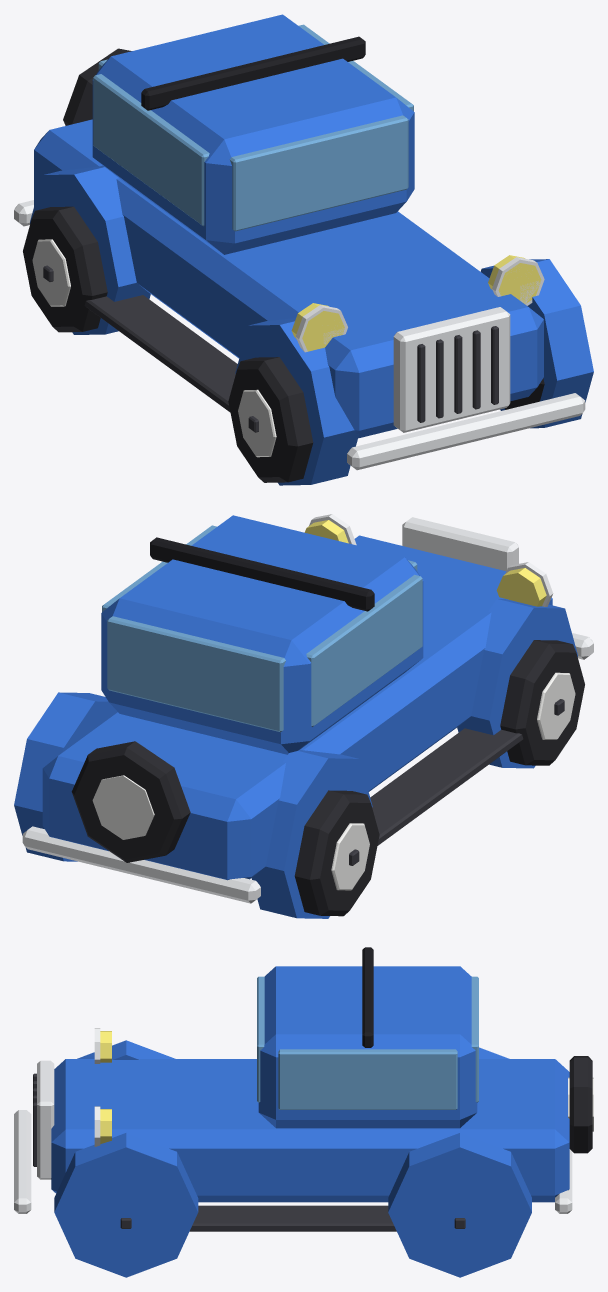
The model's file is BlueClassicCar.fbx.
The picture shows the model from 3 angles, top to bottom: view 1: azimuth 30°, elevation 25°; view 2: azimuth 150°, elevation 25°; view 3: azimuth 270°, elevation 25°; orthographic projection. The views are drawn at different scales.
Parts seen in each view (by area): view 1: BlueClassicCar, BlueClassicCar_WheelFR, BlueClassicCar_WheelBR; view 2: BlueClassicCar, BlueClassicCar_WheelBR, BlueClassicCar_WheelFR; view 3: BlueClassicCar.
Part boxes in pixels (x1=…): BlueClassicCar: x1=14, y1=14, x2=593, y2=485; BlueClassicCar_WheelFR: x1=228, y1=357, x2=313, y2=482; BlueClassicCar_WheelBR: x1=23, y1=206, x2=107, y2=332; BlueClassicCar: x1=14, y1=514, x2=593, y2=918; BlueClassicCar_WheelBR: x1=294, y1=790, x2=379, y2=916; BlueClassicCar_WheelFR: x1=500, y1=640, x2=584, y2=765; BlueClassicCar: x1=14, y1=947, x2=593, y2=1277.
Size of the model in its own units: 4.92 by 4.4 by 10.08.
1 material, 1 textured.
